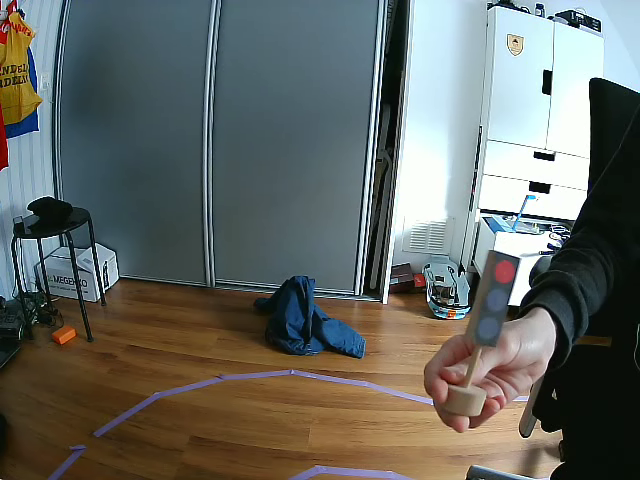roodlicht: (472, 252, 522, 344)
